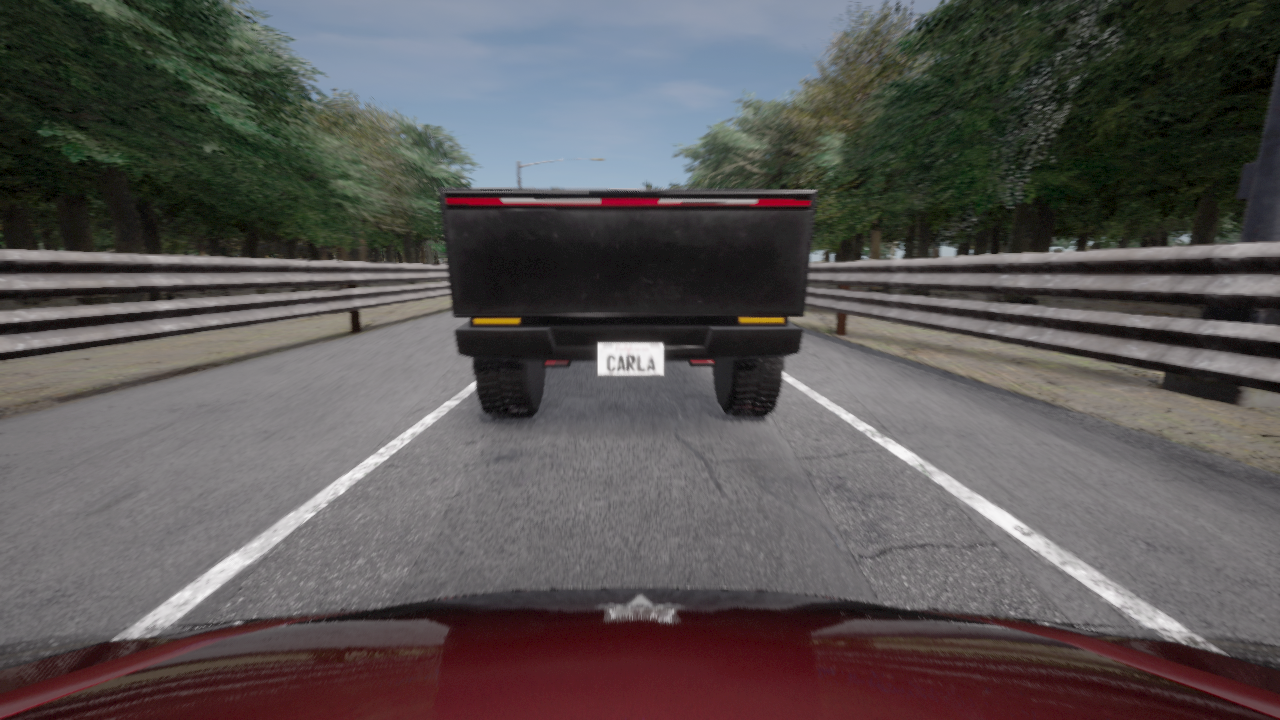cyclist: (0, 588, 1279, 719), (439, 188, 816, 418)
